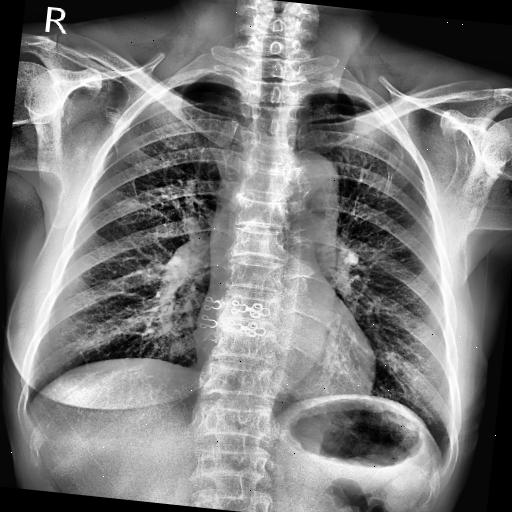0- Aortic enlargement: (264, 146, 344, 220), (272, 150, 346, 230), (288, 150, 344, 200)
11- Pleural thickening: (296, 88, 374, 116)
13- Pulmonary fibrosis: (382, 142, 408, 192)
9- Other lesion: (382, 146, 406, 194)
